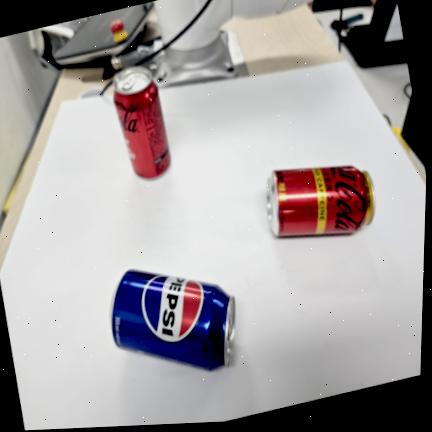can_coke_decaf: (265, 164, 376, 236)
can_coke_zero: (113, 65, 171, 178)
can_pepsi: (111, 265, 237, 373)
